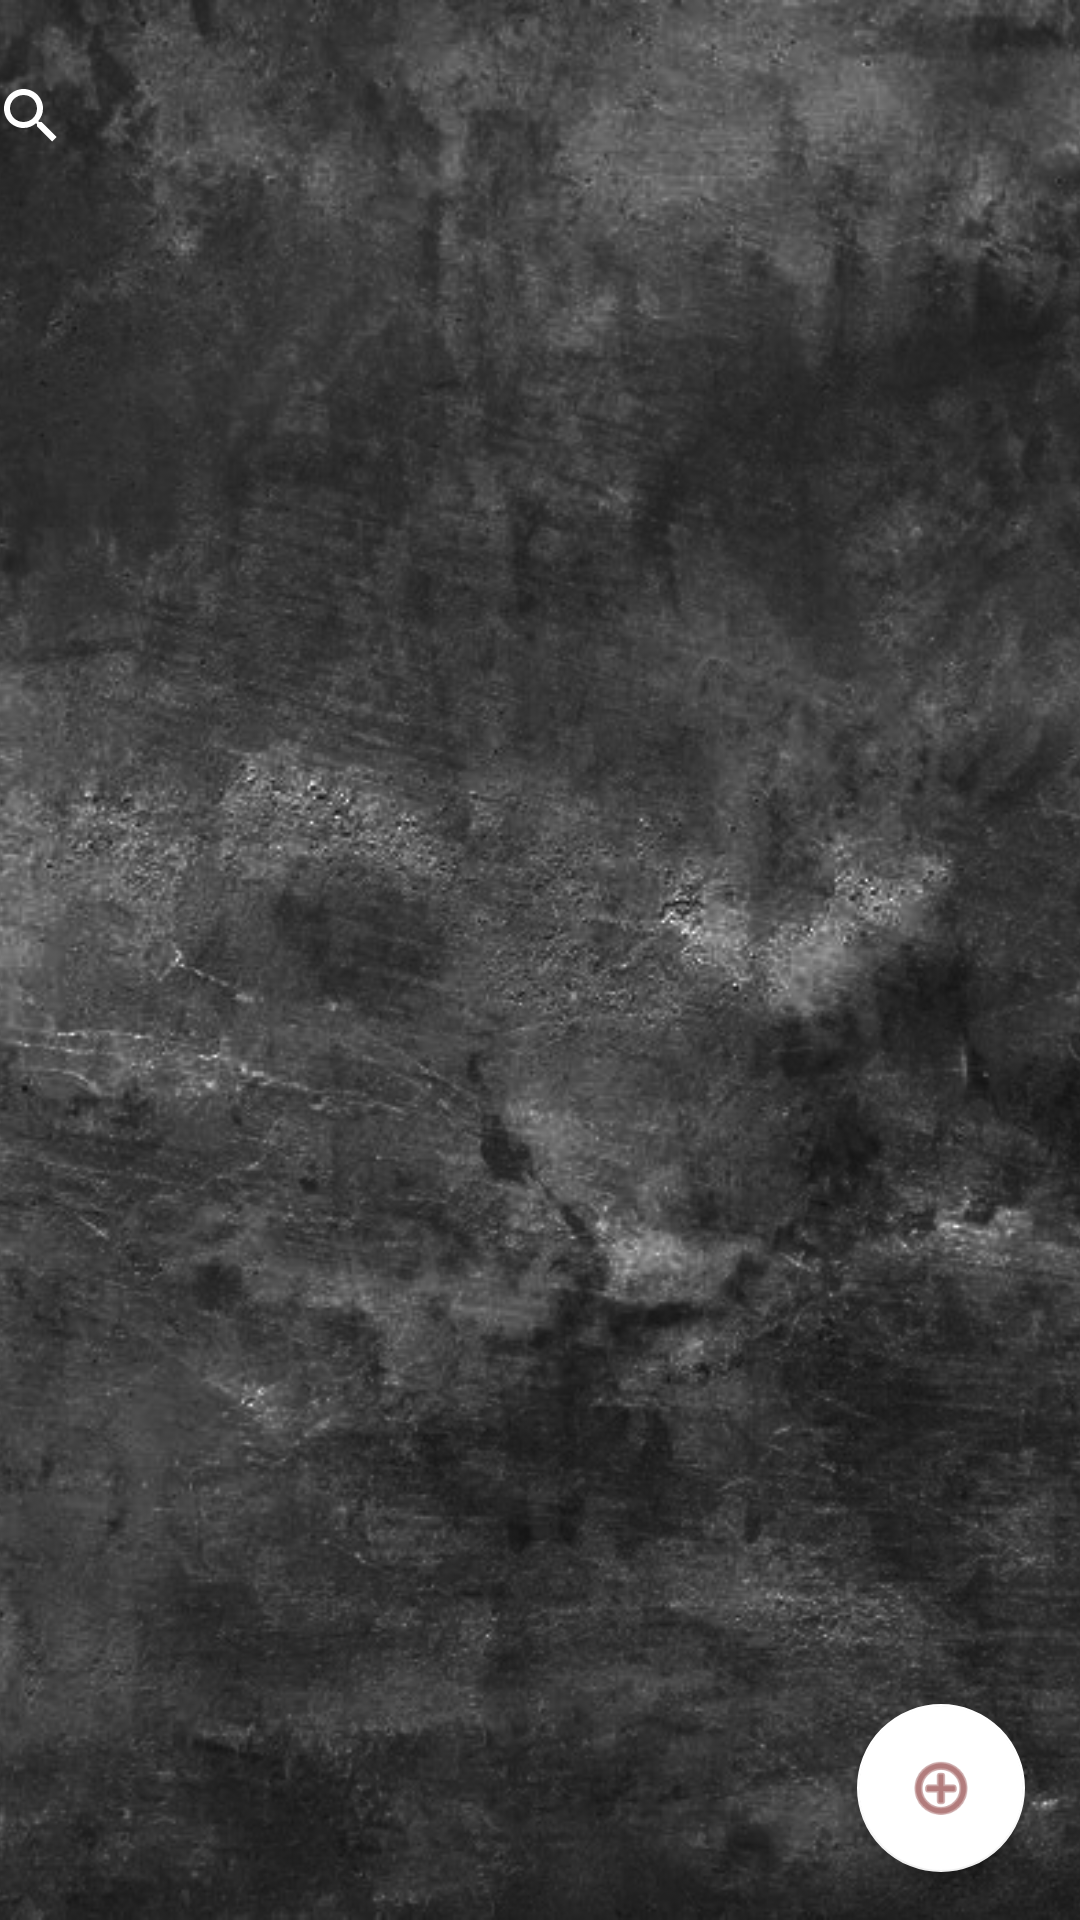

Where icons sit on this 1080w x 1920h app screen, as Rect(x1, y1, x2, y2):
add: Rect(857, 1704, 1025, 1872)
